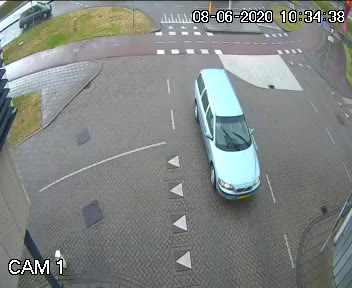car: (177, 68, 275, 214)
